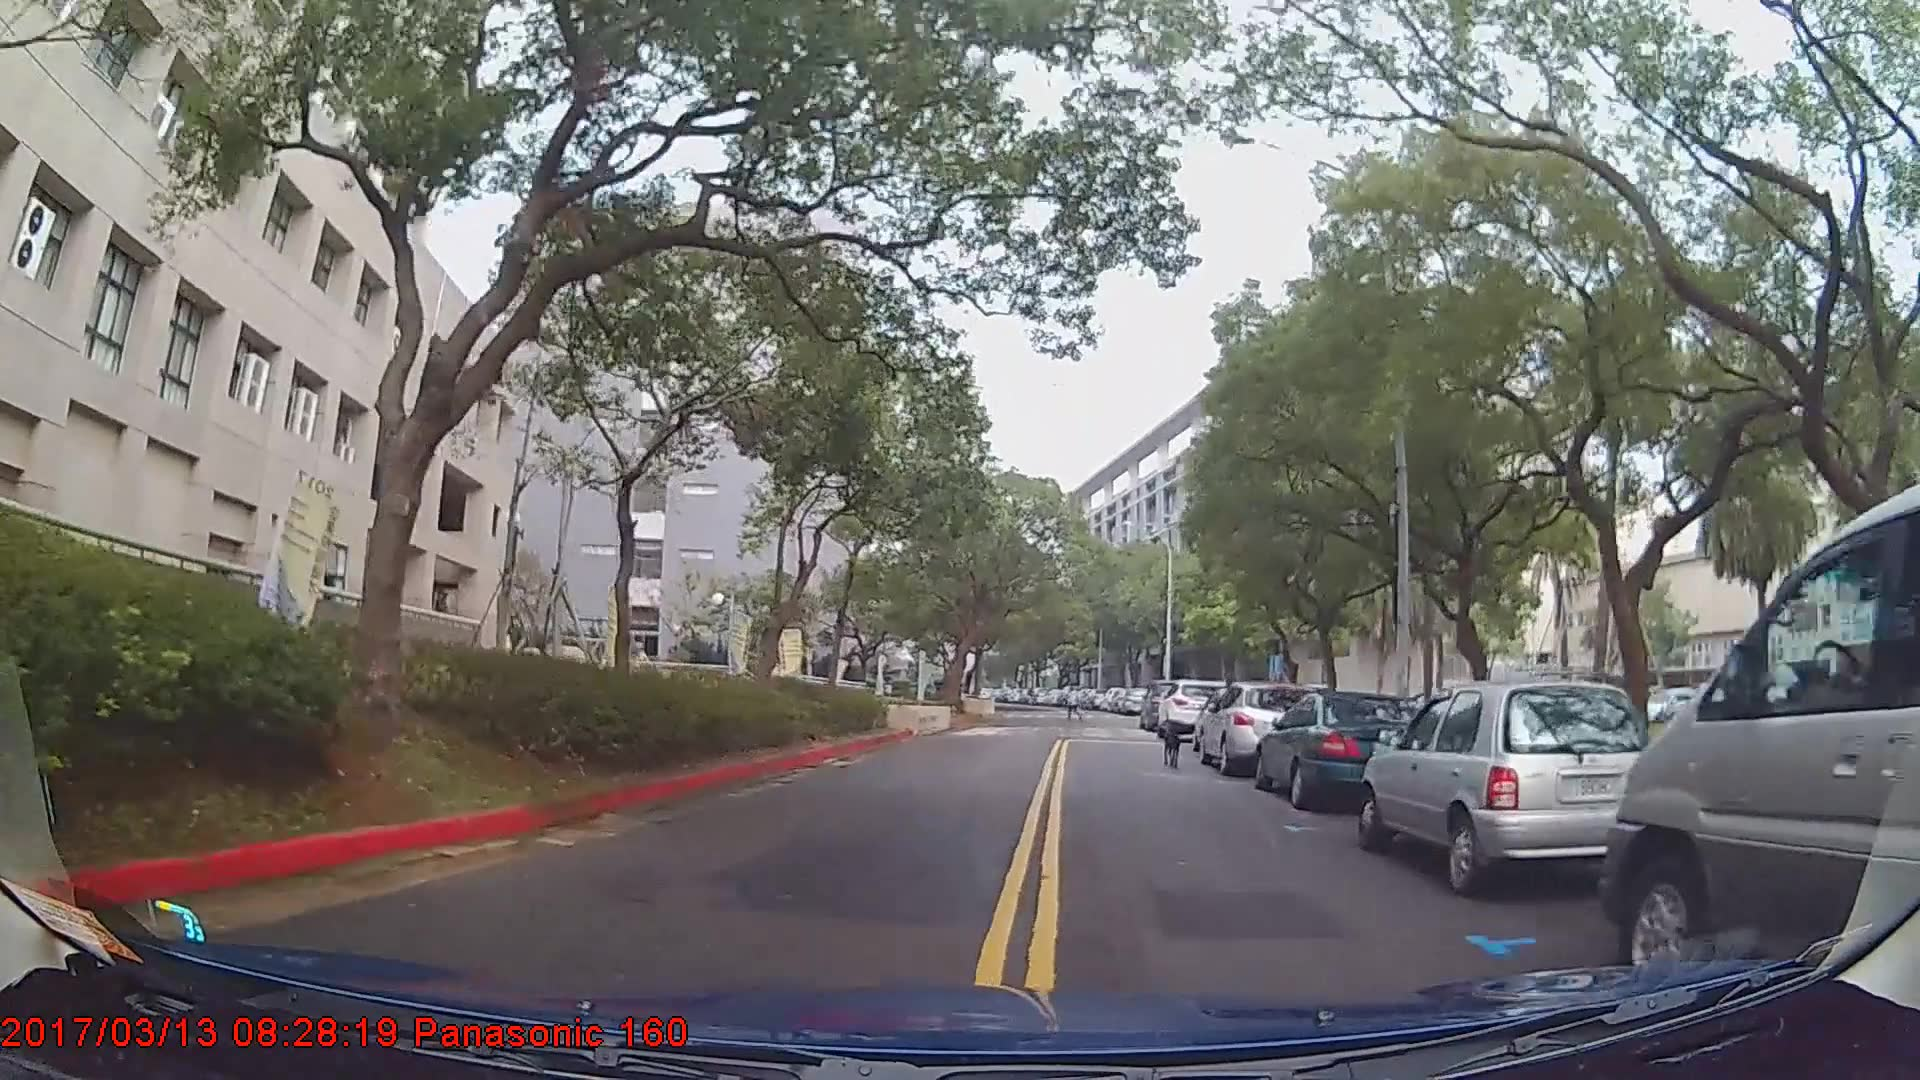pedestrian: (1064, 683, 1084, 721)
vehicle: (1600, 480, 1920, 990), (1362, 678, 1669, 894), (1253, 688, 1434, 812), (1197, 677, 1315, 774), (1158, 677, 1231, 740)
